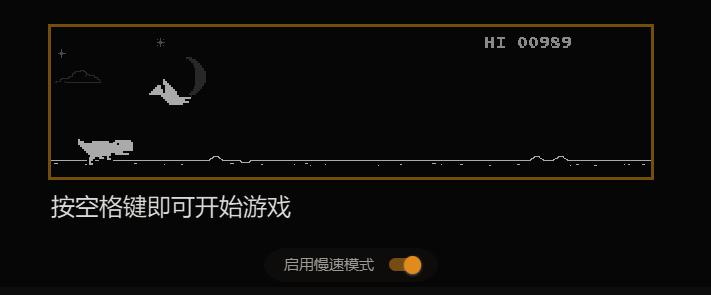bird: (148, 77, 194, 112)
dino: (75, 132, 137, 165)
